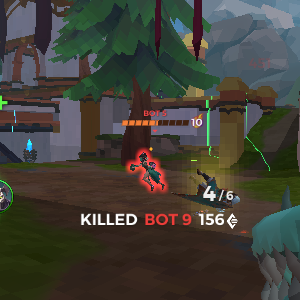model: (128, 146, 164, 193)
